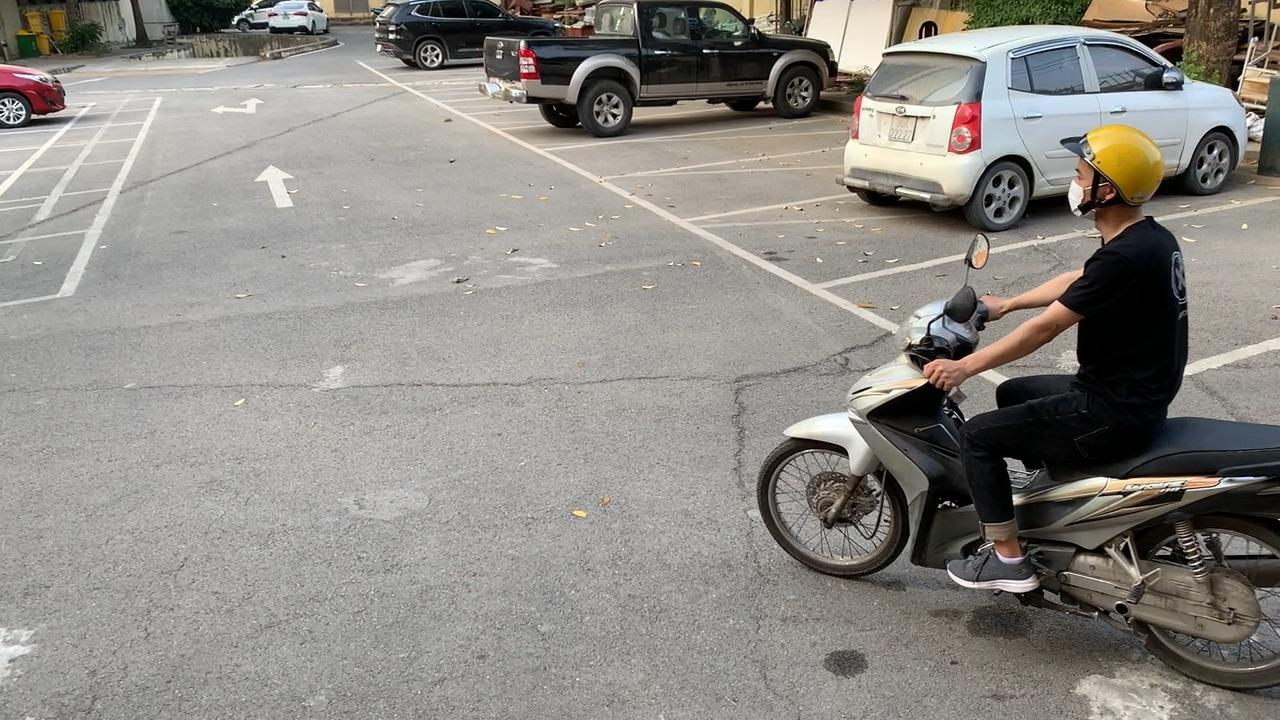helmet: (1060, 126, 1168, 211)
motorcyclist: (754, 123, 1280, 695)
